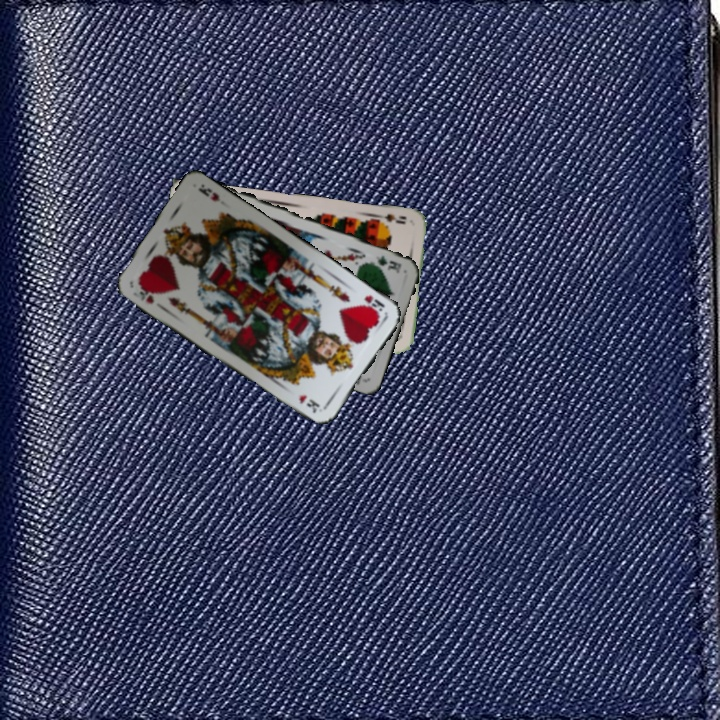GK: (372, 252, 404, 273)
HK: (359, 291, 388, 319), (132, 279, 157, 307)
S9: (371, 210, 409, 227)
